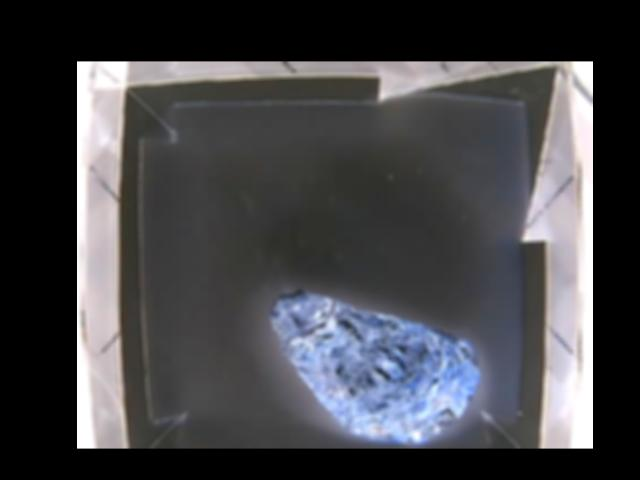Shell: (268, 292, 478, 439)
